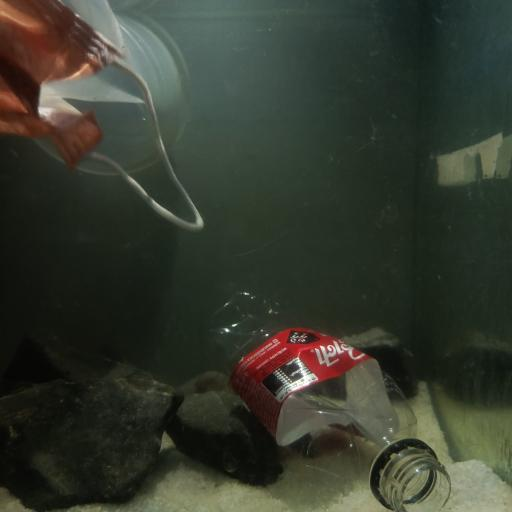mask: (0, 0, 209, 234)
plastic_bottle: (208, 285, 448, 512)
plastic_cup: (44, 0, 193, 174)
